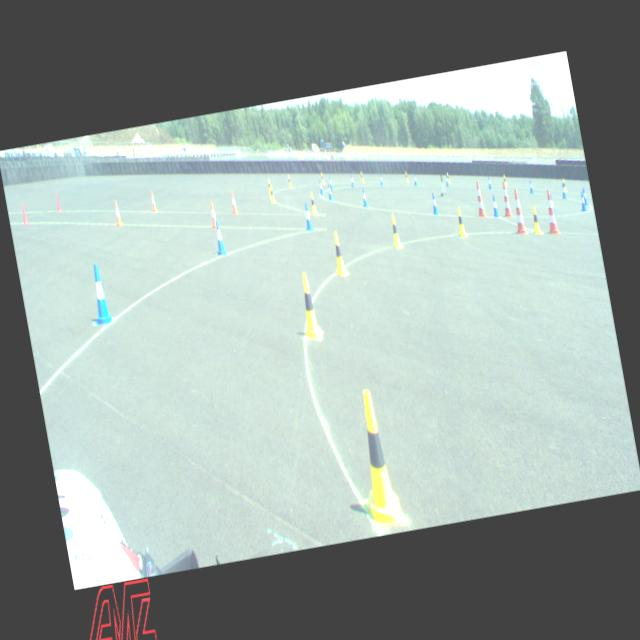blue_cone: (85, 262, 114, 326), (212, 218, 226, 255), (302, 202, 313, 230), (490, 194, 499, 218), (429, 192, 438, 214), (578, 191, 587, 211), (360, 187, 368, 207), (326, 182, 334, 200), (550, 194, 556, 216), (560, 183, 567, 199), (582, 187, 588, 205), (317, 178, 323, 194), (528, 179, 534, 194), (486, 176, 492, 188), (328, 176, 333, 190), (378, 172, 383, 185), (349, 174, 354, 187), (444, 174, 449, 186), (412, 173, 417, 184)
large_orange_cone: (510, 188, 528, 235), (542, 188, 560, 234), (472, 180, 487, 218), (499, 180, 513, 218)
orange_cone: (207, 201, 217, 228), (112, 200, 122, 226), (148, 190, 158, 212), (229, 192, 238, 215)
unknown_cone: (20, 202, 28, 224), (54, 193, 61, 212)
yellow_cone: (346, 387, 406, 529), (295, 270, 323, 342), (330, 230, 348, 276), (388, 212, 402, 248), (453, 206, 468, 237), (530, 206, 542, 234), (308, 191, 318, 215), (268, 185, 276, 202), (286, 174, 292, 187), (502, 174, 508, 186), (267, 178, 271, 193), (359, 170, 364, 182), (320, 171, 324, 184), (562, 178, 566, 191), (404, 171, 408, 182), (446, 172, 450, 182)
